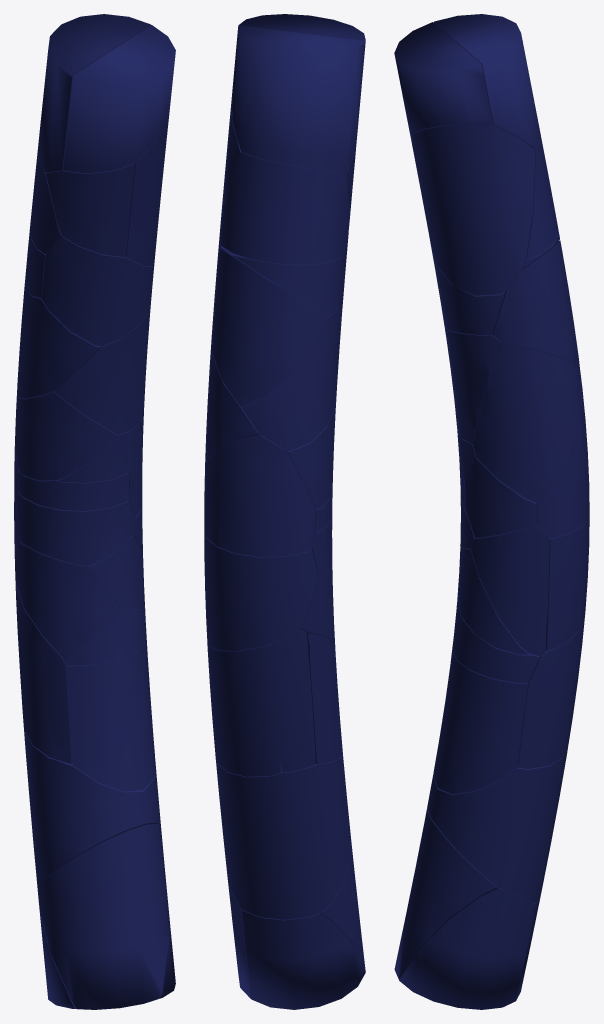
The model's file is VolumeShredded5.fbx.
3 views of the same model, side by side, from view 1: azimuth 30°, elevation 25°; view 2: azimuth 150°, elevation 25°; view 3: azimuth 270°, elevation 25° (orthographic).
Parts seen in each view (by area): view 1: Volume5_cell.008, Volume5_cell.002, Volume5_cell.020, Volume5_cell.006, Volume5_cell.007, Volume5_cell.028, Volume5_cell.015, Volume5_cell.012, Volume5_cell.026, Volume5_cell.011, Volume5_cell.027, Volume5_cell.009 (+11 smaller); view 2: Volume5_cell.006, Volume5_cell.015, Volume5_cell.014, Volume5_cell.021, Volume5_cell.023, Volume5_cell.017, Volume5_cell.019, Volume5_cell.013, Volume5_cell.024, Volume5_cell.004, Volume5_cell.027, Volume5_cell.016 (+9 smaller); view 3: Volume5_cell, Volume5_cell.001, Volume5_cell.006, Volume5_cell.010, Volume5_cell.020, Volume5_cell.002, Volume5_cell.022, Volume5_cell.015, Volume5_cell.008, Volume5_cell.023, Volume5_cell.013, Volume5_cell.017 (+9 smaller).
Boxes of the visible parts, <box> form: Volume5_cell.008: <box>37,823,168,1009</box>; Volume5_cell.002: <box>63,25,175,173</box>; Volume5_cell.020: <box>66,639,154,791</box>; Volume5_cell.006: <box>24,730,160,889</box>; Volume5_cell.007: <box>41,236,154,346</box>; Volume5_cell.028: <box>15,541,120,656</box>; Volume5_cell.015: <box>37,14,150,172</box>; Volume5_cell.012: <box>15,391,117,480</box>; Volume5_cell.026: <box>54,300,151,434</box>; Volume5_cell.011: <box>46,164,134,257</box>; Volume5_cell.027: <box>15,585,72,763</box>; Volume5_cell.009: <box>16,492,135,566</box>; Volume5_cell.006: <box>215,751,352,919</box>; Volume5_cell.015: <box>232,25,365,171</box>; Volume5_cell.014: <box>220,152,350,264</box>; Volume5_cell.021: <box>204,434,315,556</box>; Volume5_cell.023: <box>212,247,328,407</box>; Volume5_cell.017: <box>204,528,318,650</box>; Volume5_cell.019: <box>242,910,365,1009</box>; Volume5_cell.013: <box>207,640,281,776</box>; Volume5_cell.024: <box>242,306,342,451</box>; Volume5_cell.004: <box>272,628,315,772</box>; Volume5_cell.027: <box>307,632,342,764</box>; Volume5_cell.016: <box>219,241,342,316</box>; Volume5_cell: <box>411,124,535,295</box>; Volume5_cell.001: <box>473,342,583,503</box>; Volume5_cell.006: <box>427,745,568,903</box>; Volume5_cell.010: <box>398,888,535,1009</box>; Volume5_cell.020: <box>433,650,527,794</box>; Volume5_cell.002: <box>394,22,492,138</box>; Volume5_cell.022: <box>471,524,549,656</box>; Volume5_cell.015: <box>434,14,541,148</box>; Volume5_cell.008: <box>394,809,504,978</box>; Volume5_cell.023: <box>492,240,580,370</box>; Volume5_cell.013: <box>517,613,585,768</box>; Volume5_cell.017: <box>542,514,589,651</box>.
Size of the model in its own units: 32.2 by 265 by 48.87.
